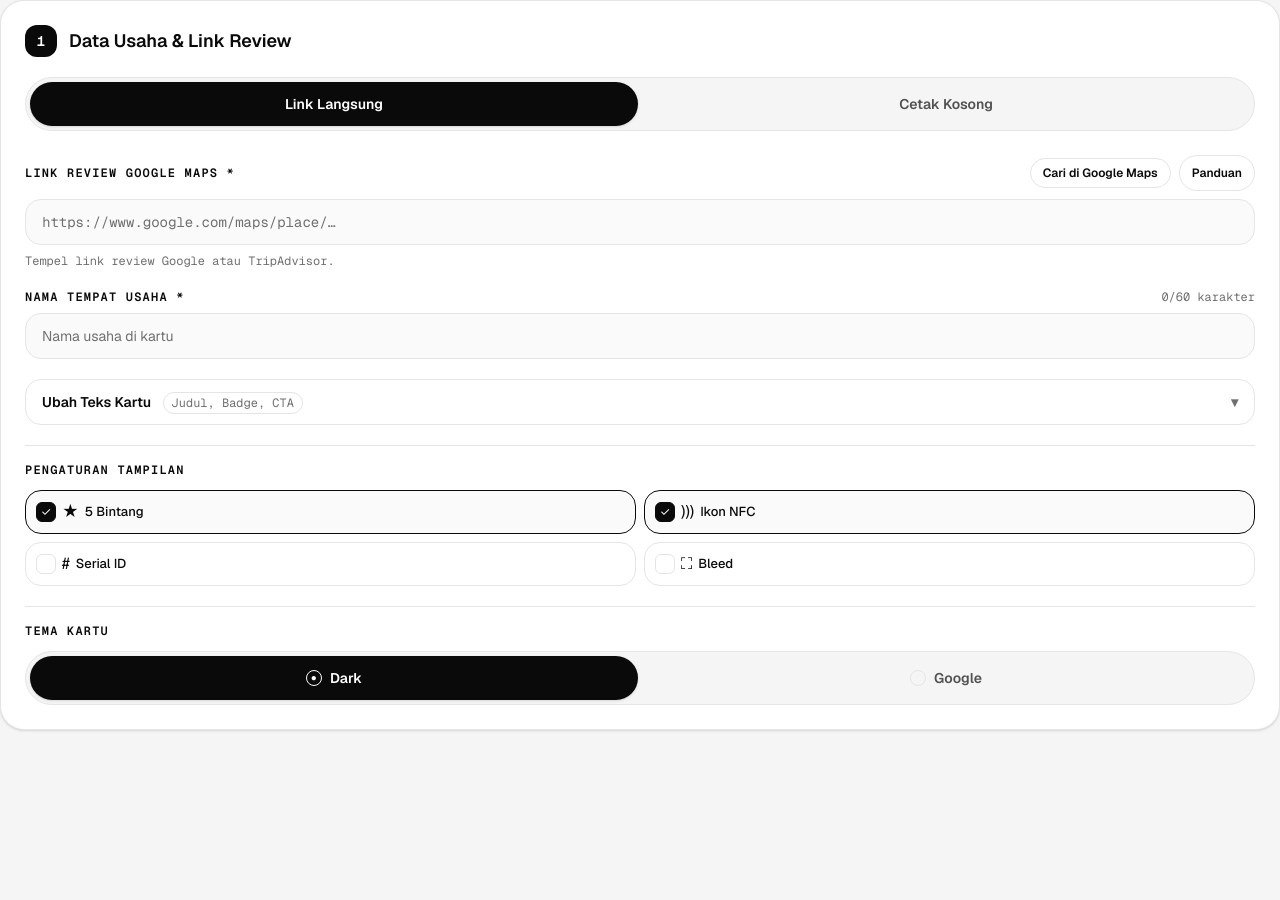
Test: BusinessForm › collapsible Ubah Teks Kartu membuka empat field
This screenshot has width=1280, height=900.
Click the button "Ubah Teks Kartu Judul, Badge, CTA ▾": click(97, 402) [26, 380, 1254, 424]
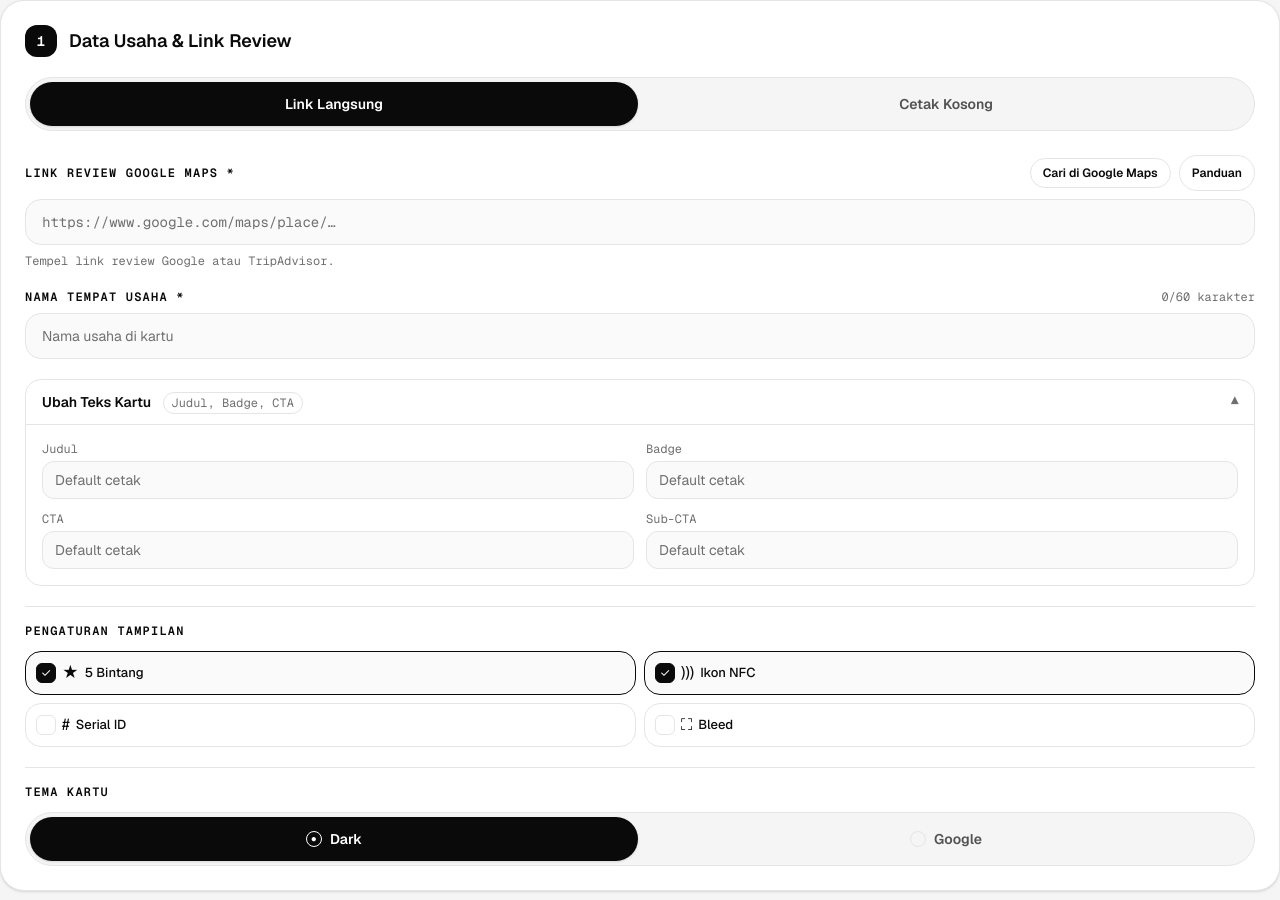
Result: the field labelled "Judul" is shown at [42, 461, 634, 499]
Result: the field labelled "Badge" is shown at [646, 461, 1238, 499]
Result: the field labelled "CTA" is shown at [42, 531, 634, 569]
